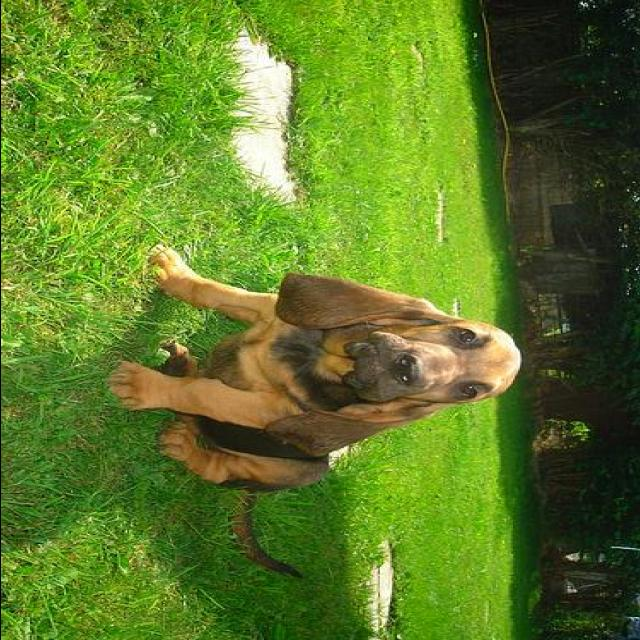bloodhound: (110, 246, 522, 582)
